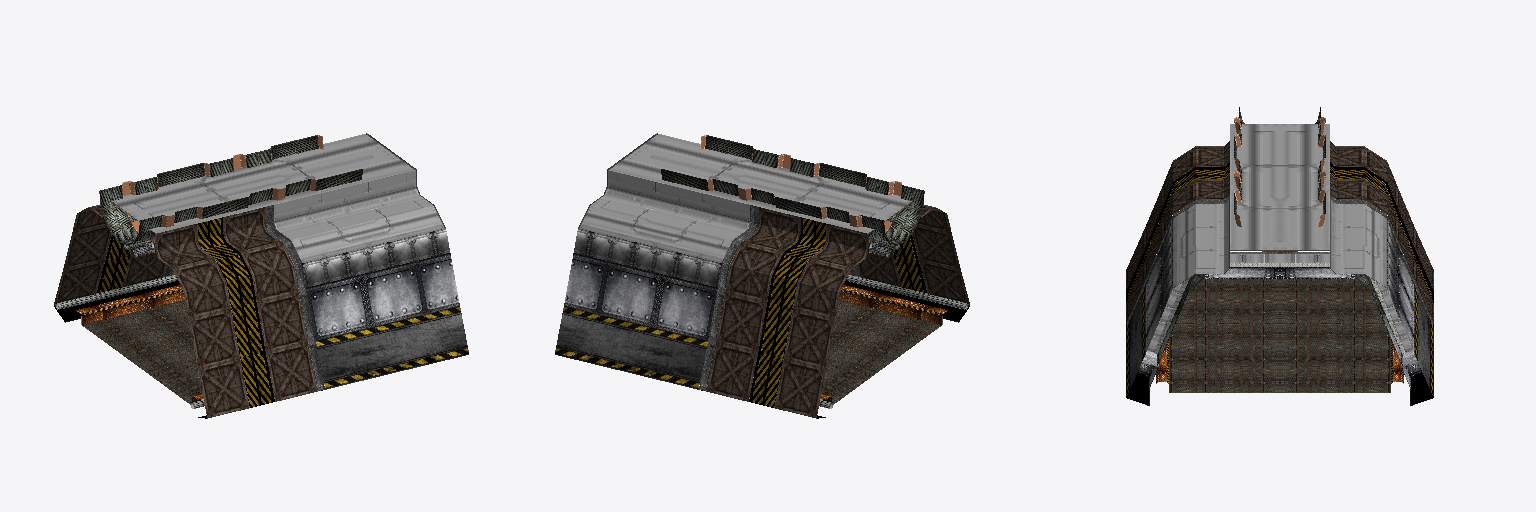
3 views of the same model, side by side, from view 1: azimuth 30°, elevation 25°; view 2: azimuth 150°, elevation 25°; view 3: azimuth 270°, elevation 25° (orthographic).
Bounding box in the file's own units: 2.86 × 1.68 × 2.8.
1 materials, 1 textured.